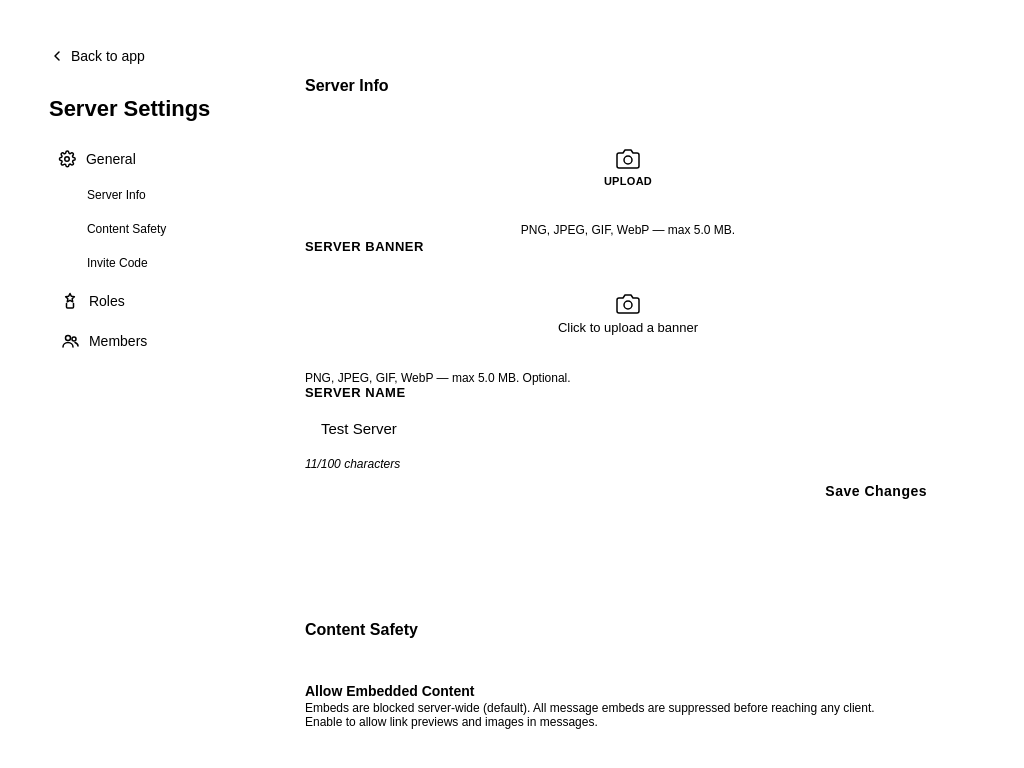
Test: ServerSettingsPage › switches to Members section on nav click
What coordinates should you click on to do the following:
click the button "Members"
I would click on:
 (149, 341)
Its box is x1=49 y1=322 x2=249 y2=360.
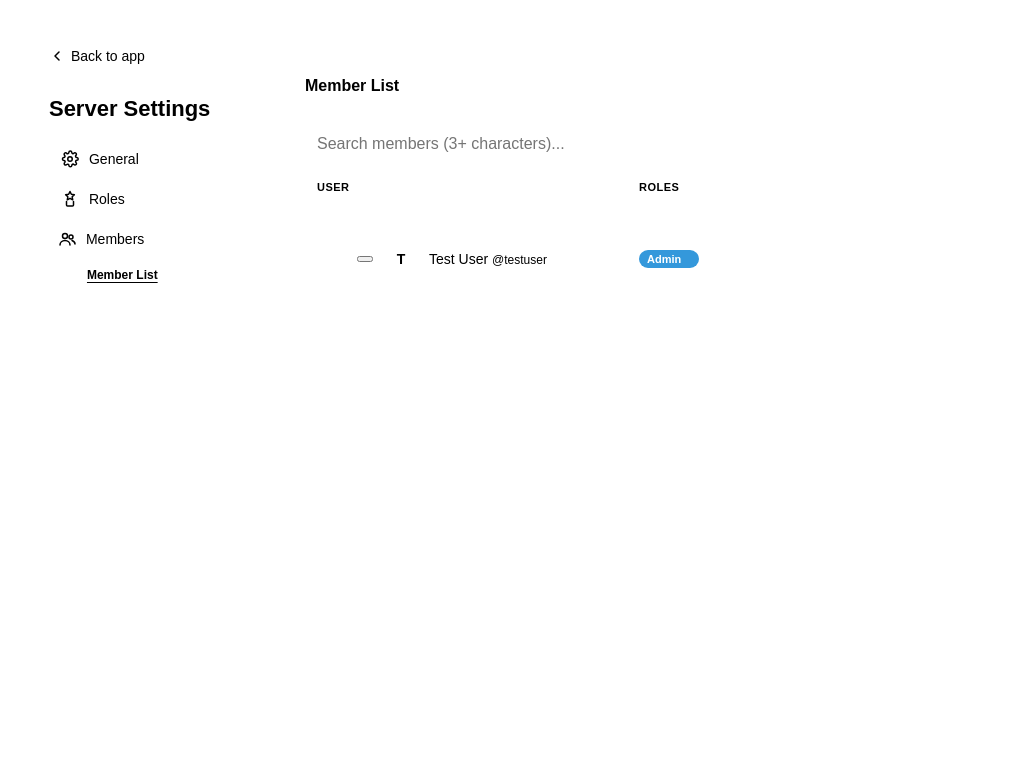
expect the text "Test User" is shown: met, box x1=429 y1=251 x2=488 y2=267
